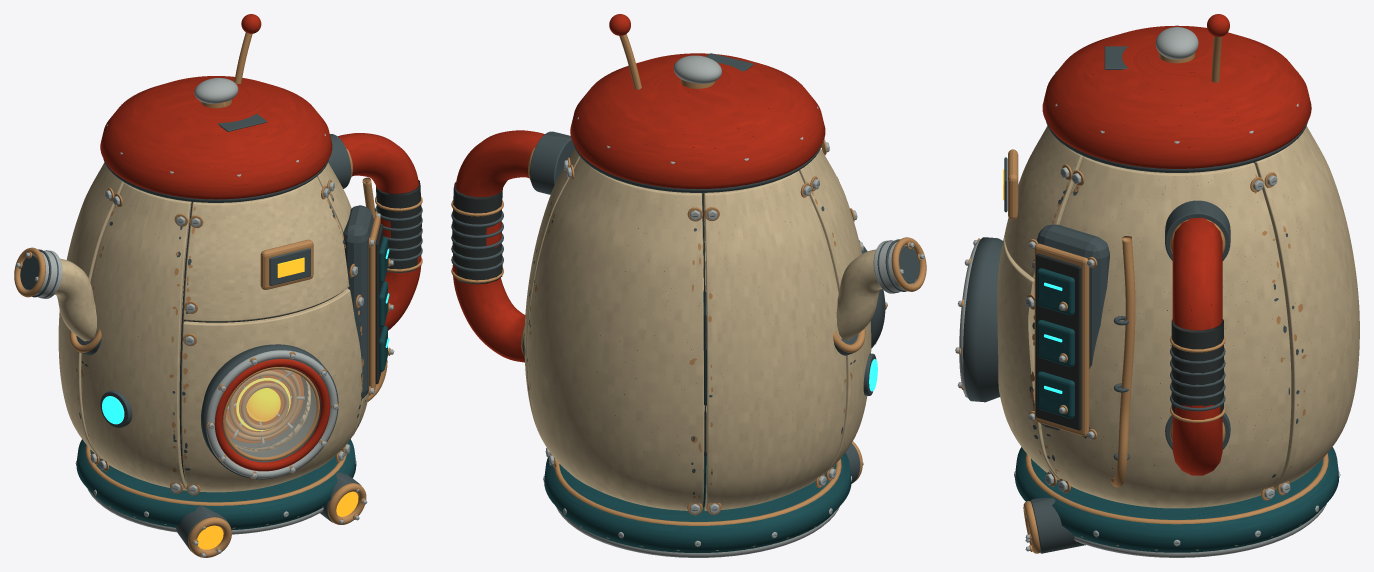
The model's file is teapot.glb.
3 views of the same model, side by side, from view 1: azimuth 30°, elevation 25°; view 2: azimuth 150°, elevation 25°; view 3: azimuth 270°, elevation 25° (orthographic). The views are drawn at different scales.
Parts seen in each view (by area): view 1: Left_side_ivory_casting, Red_orange_fitted_dome, Upper_front_ivory_casting, Lower_front_ivory_casting, Teal_compact_plinth, AP21_sealed_convex_glass, Left_rear_ivory_casting, Handle_cast_orange_structure, AP21_closed_reactor_chamber, AP21_outer_machined_bezel, AP21_red_cast_bezel, Dark_side_service_casting (+28 smaller); view 2: Rear_ivory_casting, Left_rear_ivory_casting, Red_orange_fitted_dome, Teal_compact_plinth, Handle_cast_orange_structure, Left_side_ivory_casting, Handle_inner_dark_grip, AP21_short_cast_outlet, Handle_hinge_pin, Plinth_copper_upper_seal, Right_ivory_casting, Plinth_steel_lower_rim (+6 smaller); view 3: Right_ivory_casting, Red_orange_fitted_dome, Rear_ivory_casting, Teal_compact_plinth, Handle_cast_orange_structure, Lower_front_ivory_casting, Upper_front_ivory_casting, AP21_closed_reactor_chamber, Handle_inner_dark_grip, Side_service_recess, Dark_side_service_casting, Side_service_copper_liner (+14 smaller).
Boxes of the visible parts, <box> form: Left_side_ivory_casting: <box>81,183,191,490</box>; Red_orange_fitted_dome: <box>100,76,332,199</box>; Upper_front_ivory_casting: <box>183,176,349,321</box>; Lower_front_ivory_casting: <box>181,288,362,492</box>; Teal_compact_plinth: <box>76,439,356,530</box>; AP21_sealed_convex_glass: <box>225,369,316,457</box>; Left_rear_ivory_casting: <box>58,162,124,458</box>; Handle_cast_orange_structure: <box>338,133,421,330</box>; AP21_closed_reactor_chamber: <box>201,344,338,479</box>; AP21_outer_machined_bezel: <box>206,350,337,478</box>; AP21_red_cast_bezel: <box>214,359,330,471</box>; Dark_side_service_casting: <box>343,205,373,398</box>; Rear_ivory_casting: <box>527,157,703,510</box>; Left_rear_ivory_casting: <box>704,171,846,510</box>; Red_orange_fitted_dome: <box>570,53,825,189</box>; Teal_compact_plinth: <box>544,453,851,552</box>; Handle_cast_orange_structure: <box>452,130,544,362</box>; Left_side_ivory_casting: <box>799,148,871,474</box>; Handle_inner_dark_grip: <box>452,182,502,284</box>; AP21_short_cast_outlet: <box>836,249,881,340</box>; Handle_hinge_pin: <box>530,131,574,194</box>; Plinth_copper_upper_seal: <box>554,459,841,525</box>; Right_ivory_casting: <box>524,148,580,425</box>; Plinth_steel_lower_rim: <box>556,506,839,557</box>; Right_ivory_casting: <box>1041,156,1291,508</box>; Red_orange_fitted_dome: <box>1042,25,1311,168</box>; Rear_ivory_casting: <box>1254,126,1359,489</box>; Teal_compact_plinth: <box>1015,447,1338,552</box>; Handle_cast_orange_structure: <box>1172,218,1222,475</box>; Lower_front_ivory_casting: <box>997,234,1059,480</box>; Upper_front_ivory_casting: <box>1004,126,1083,277</box>; AP21_closed_reactor_chamber: <box>963,237,1002,402</box>; Handle_inner_dark_grip: <box>1171,319,1223,418</box>; Side_service_recess: <box>1036,253,1081,430</box>; Dark_side_service_casting: <box>1037,224,1109,438</box>; Side_service_copper_liner: <box>1034,243,1089,436</box>.
Size of the model in its own units: 3.19 by 3.38 by 2.35.
Materials: 13 (3 with a texture image).
